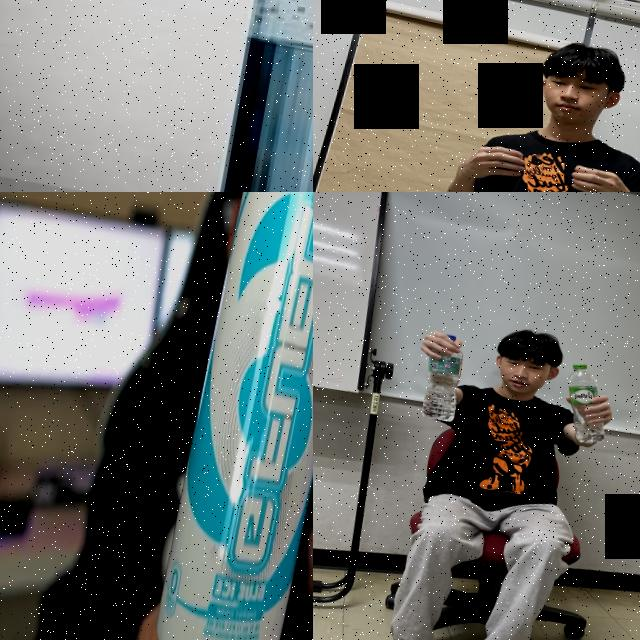bottle: (189, 0, 313, 192), (415, 329, 470, 424), (557, 360, 616, 447)
can: (144, 192, 313, 640)
